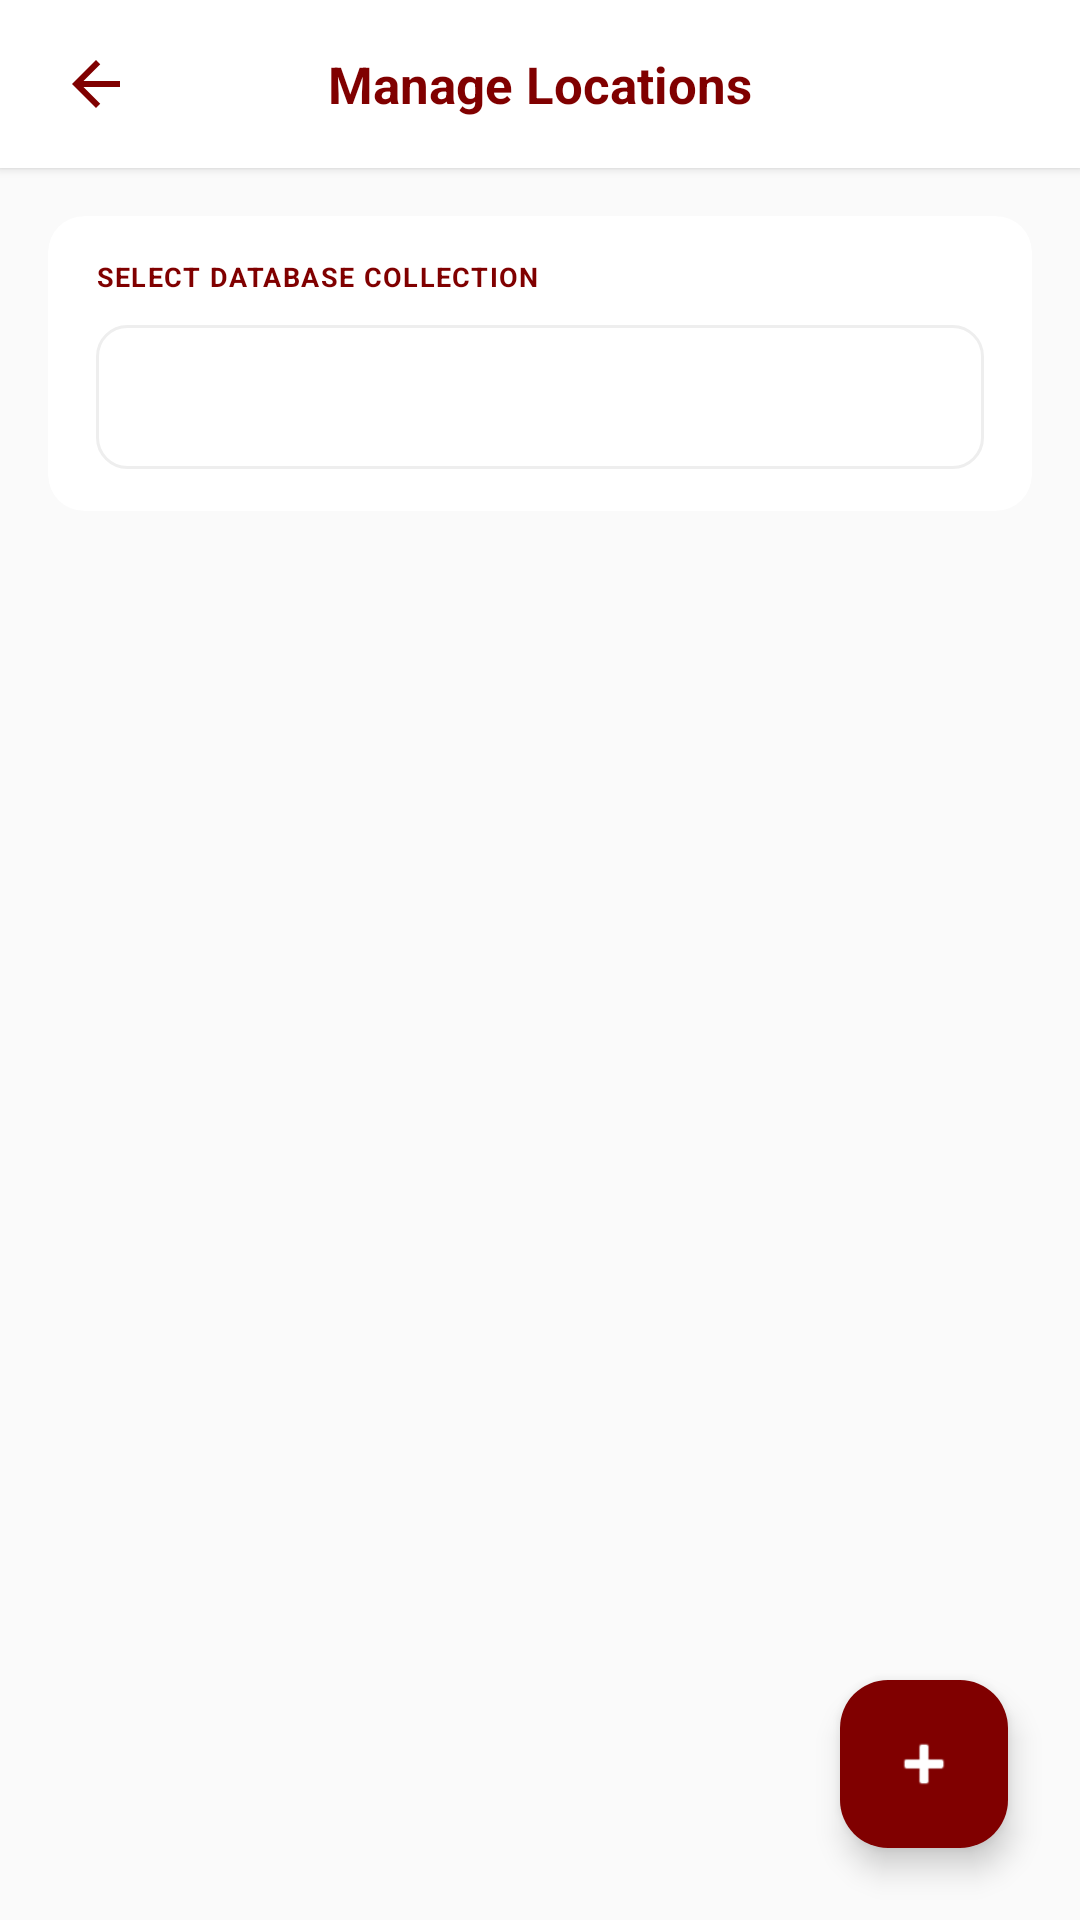

Where icons sit on this 1080×1920 app screen, as (x1, y1, x2, y2):
add: (840, 1680, 1008, 1848)
arrow back: (72, 60, 120, 108)
